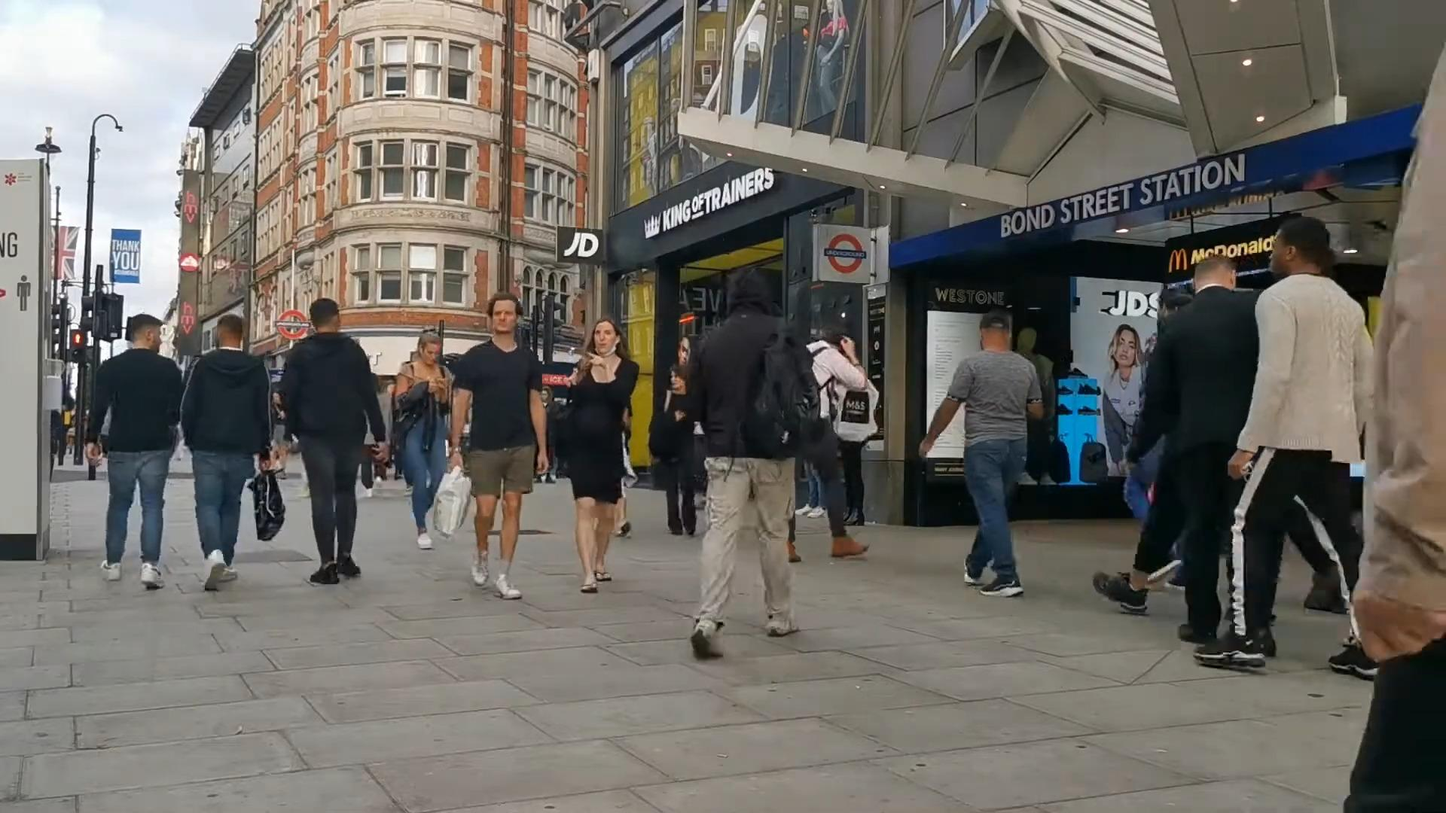no-helmet: (1269, 216, 1327, 276), (726, 267, 772, 316), (1191, 256, 1237, 293), (487, 291, 523, 335), (586, 316, 623, 357), (978, 311, 1010, 351), (131, 314, 162, 354), (310, 298, 340, 332), (417, 324, 441, 365), (217, 313, 243, 347), (670, 364, 688, 389)
